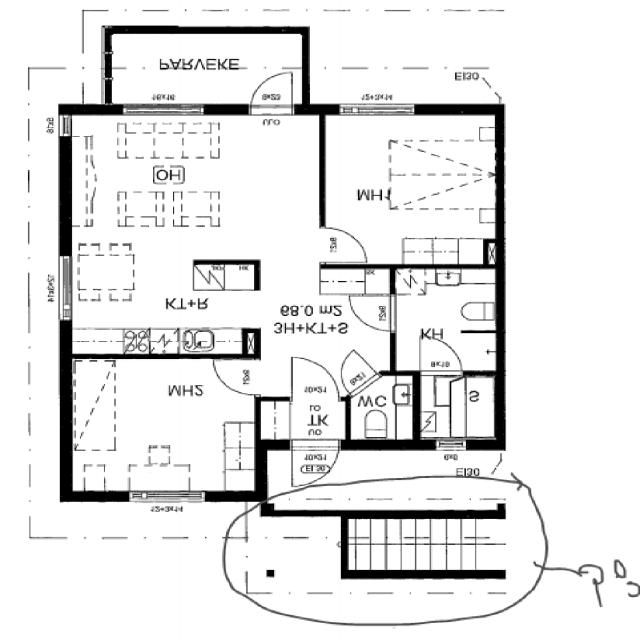door: (244, 66, 300, 112), (414, 332, 468, 377), (345, 290, 400, 334), (289, 438, 341, 484), (207, 355, 261, 396), (285, 354, 342, 392), (319, 222, 372, 262), (227, 514, 252, 541)
window: (331, 97, 422, 121), (115, 99, 211, 119), (53, 252, 78, 325), (125, 487, 208, 504), (429, 436, 474, 453), (23, 376, 36, 428), (21, 326, 36, 370), (55, 110, 76, 140)
zone: (54, 112, 322, 346), (322, 111, 500, 268), (64, 357, 256, 498), (390, 264, 500, 372), (232, 514, 345, 594), (416, 373, 499, 446), (284, 352, 346, 438), (350, 374, 417, 443), (281, 398, 347, 442), (290, 441, 337, 484)
